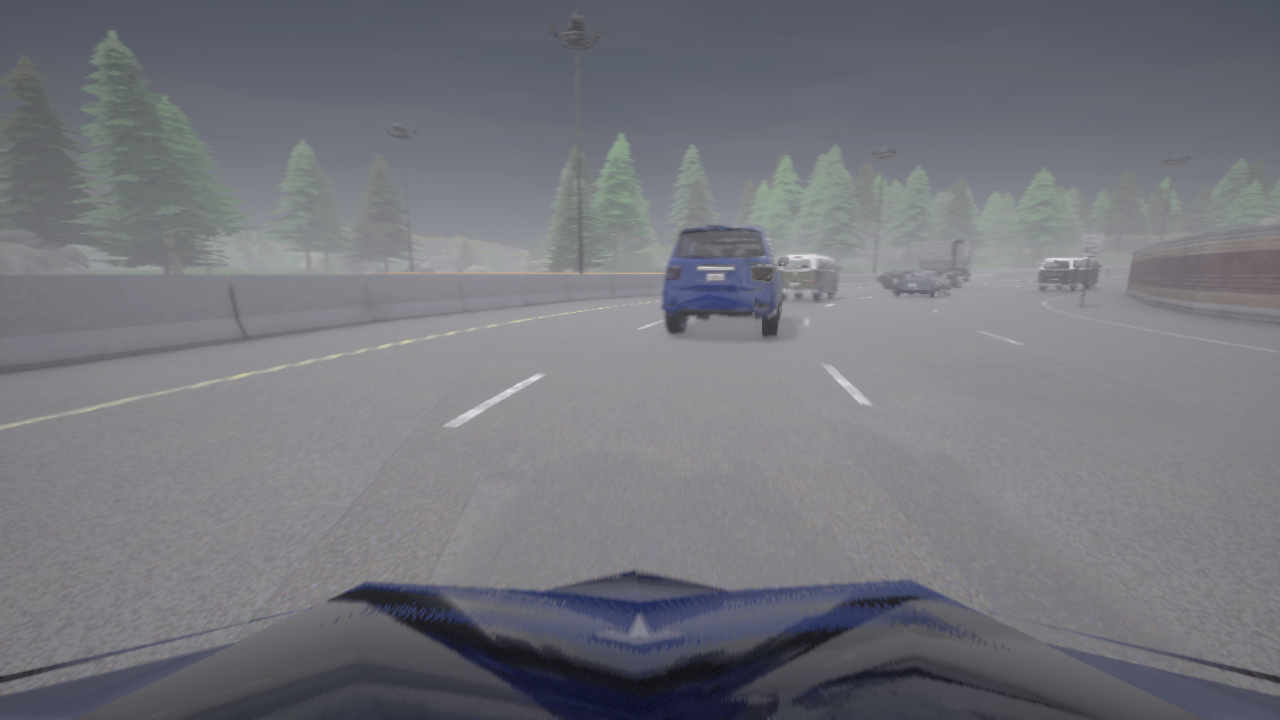cyclist: (0, 569, 1279, 719), (662, 225, 788, 336), (877, 238, 974, 289), (780, 253, 840, 301), (1037, 257, 1100, 291), (893, 270, 952, 297)
